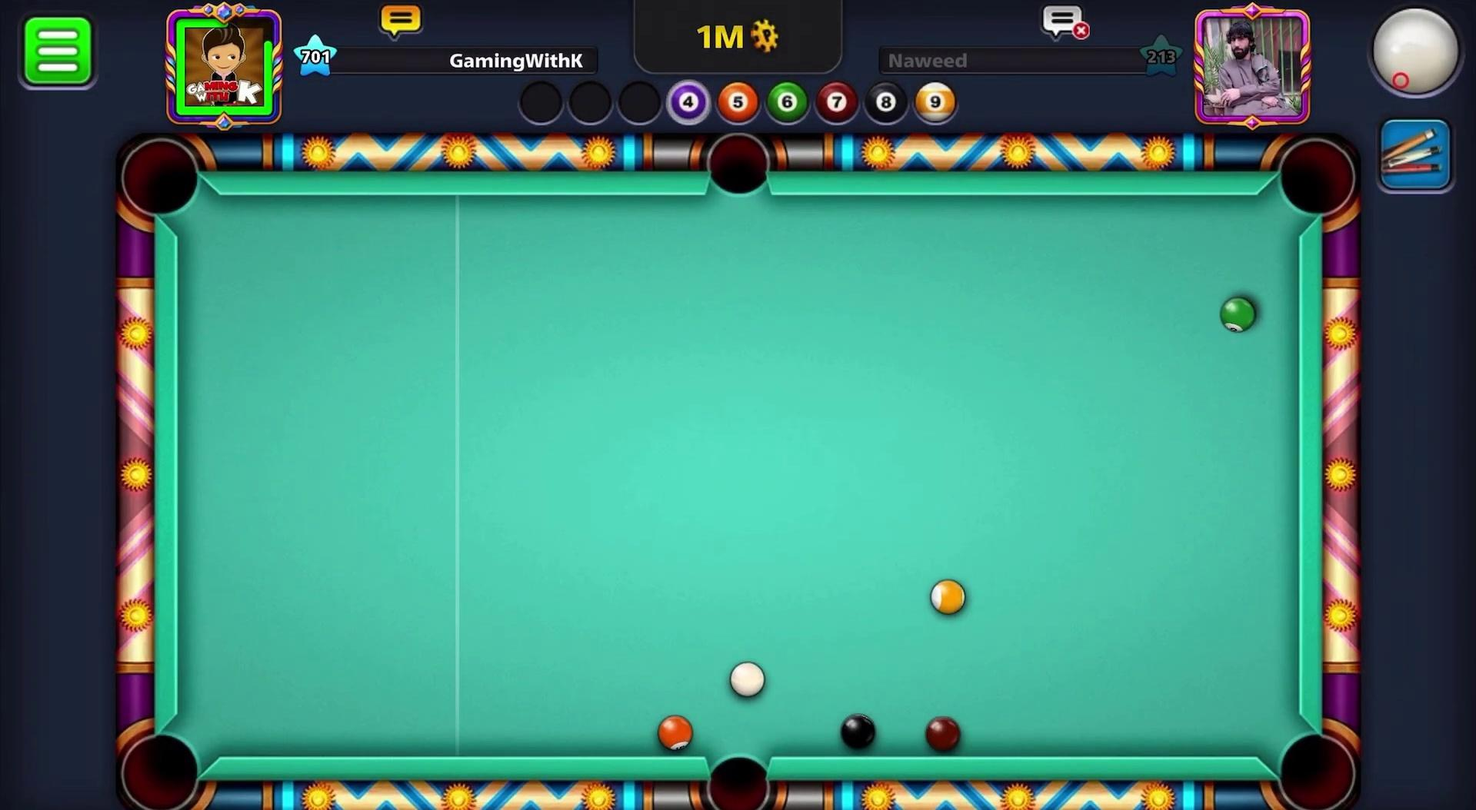Ball: (925, 573, 971, 620), (641, 713, 692, 753), (1218, 291, 1259, 340), (922, 711, 968, 752), (835, 710, 878, 752)
Hole: (108, 128, 215, 231), (108, 715, 216, 809), (1267, 132, 1364, 232), (1264, 715, 1364, 809), (687, 741, 785, 809), (701, 125, 776, 204)
Play_Area: (178, 198, 1294, 761)
Spin: (1347, 0, 1475, 118)
White: (725, 659, 769, 699)
